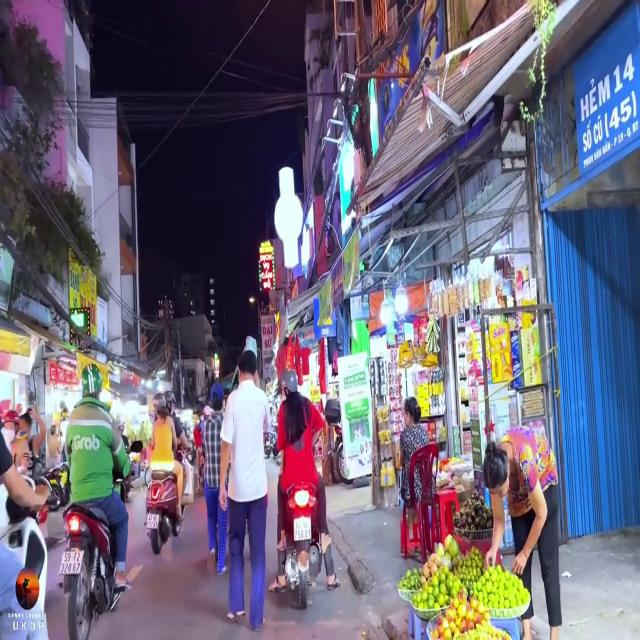bien_trang: (288, 518, 316, 546), (59, 546, 82, 573)
